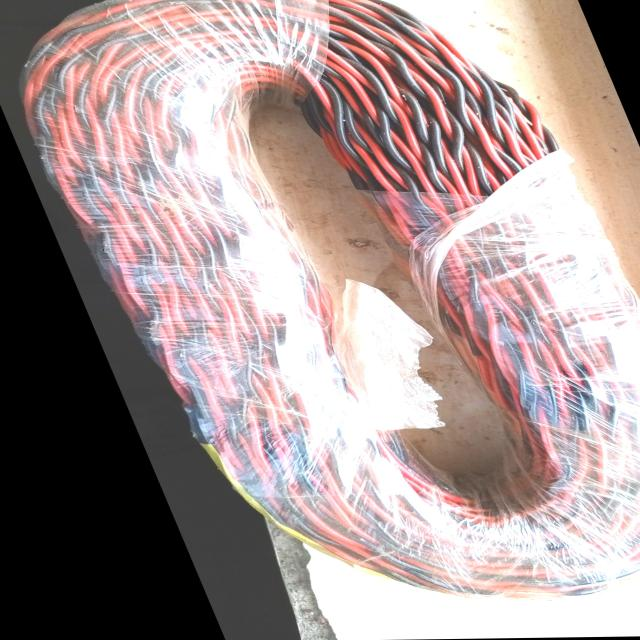Connecting Wires: (0, 0, 640, 603)
